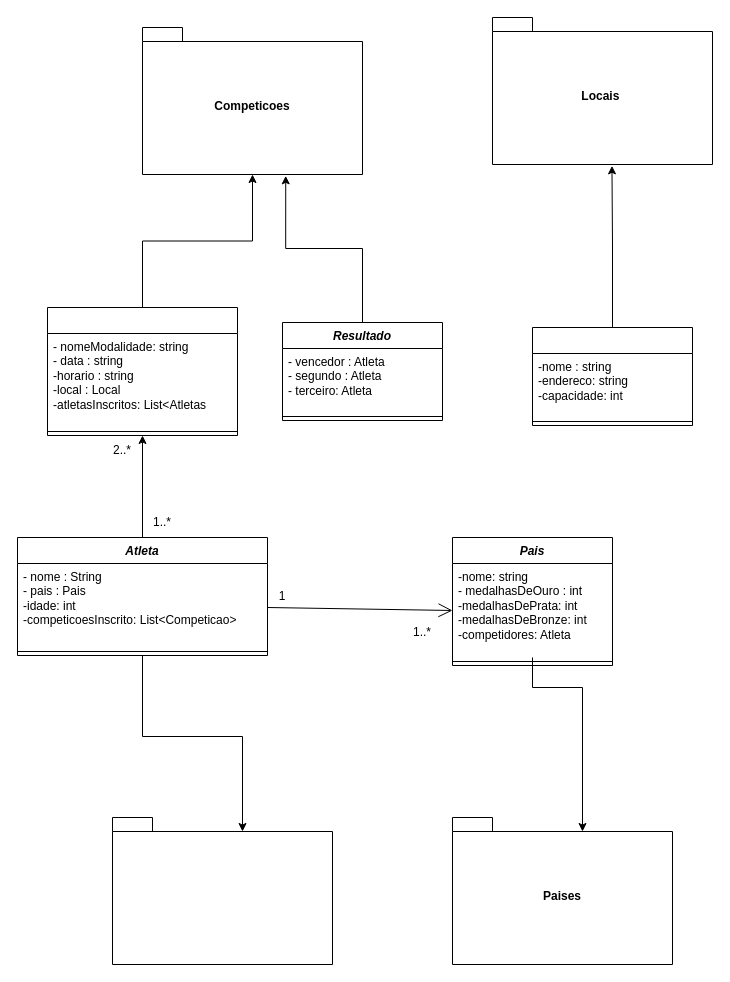
This 730x982 diagram has some shape labels left out. The shapes that lost their labels are listed below. From the top down, each one's box as (x1, y1, x2, y2) in pixels, then its label:
(46, 306, 238, 436): Competicao
(532, 326, 692, 426): Local
(112, 816, 332, 964): Atletas
